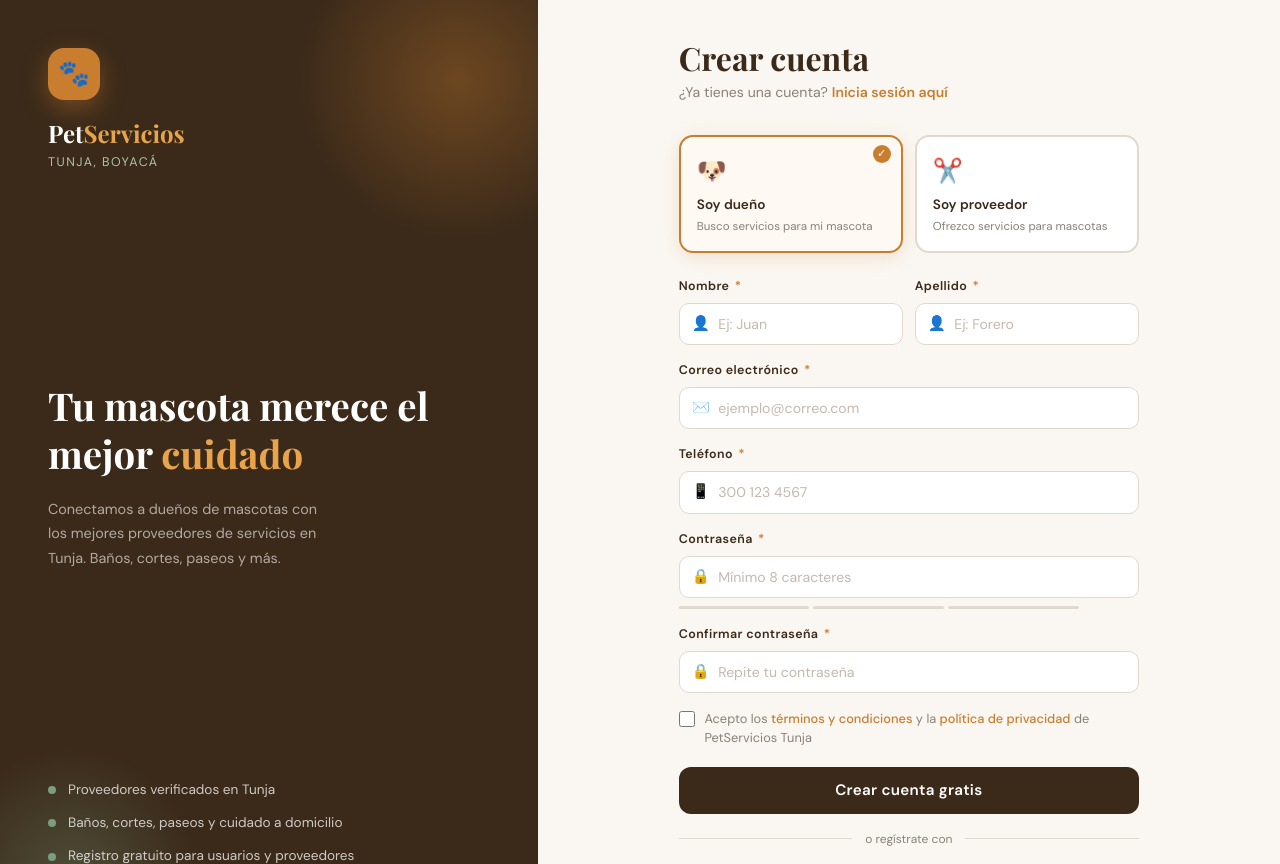
Register › muestra campos extra al seleccionar proveedor
Click the text "Soy proveedor".
click(980, 205)  # box [933, 196, 1028, 213]
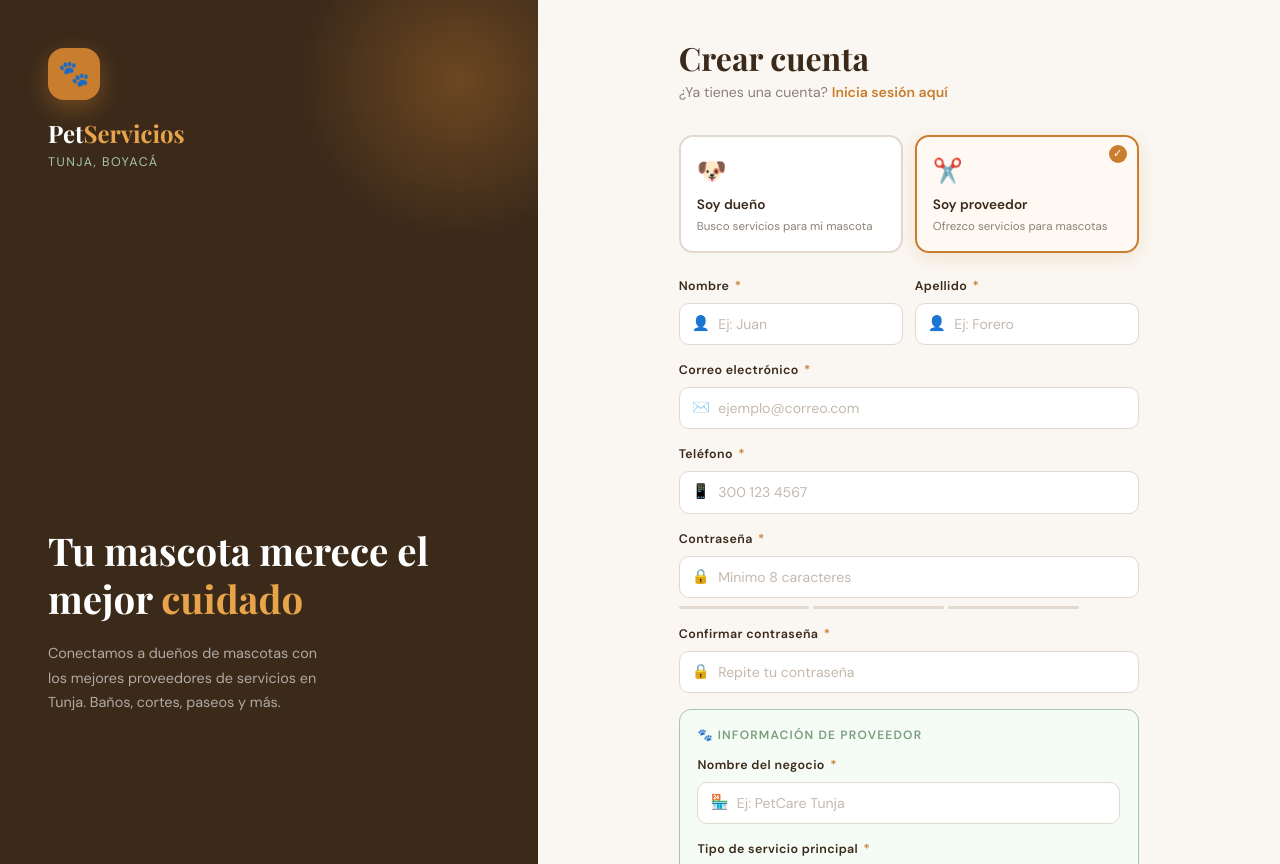
Result: the field with placeholder "Ej: PetCare Tunja" is shown at [697, 782, 1120, 824]
